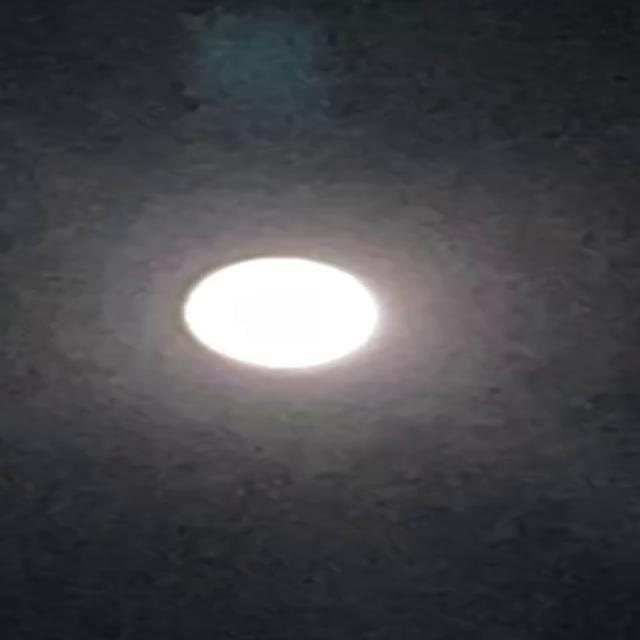moon: (173, 250, 403, 394)
